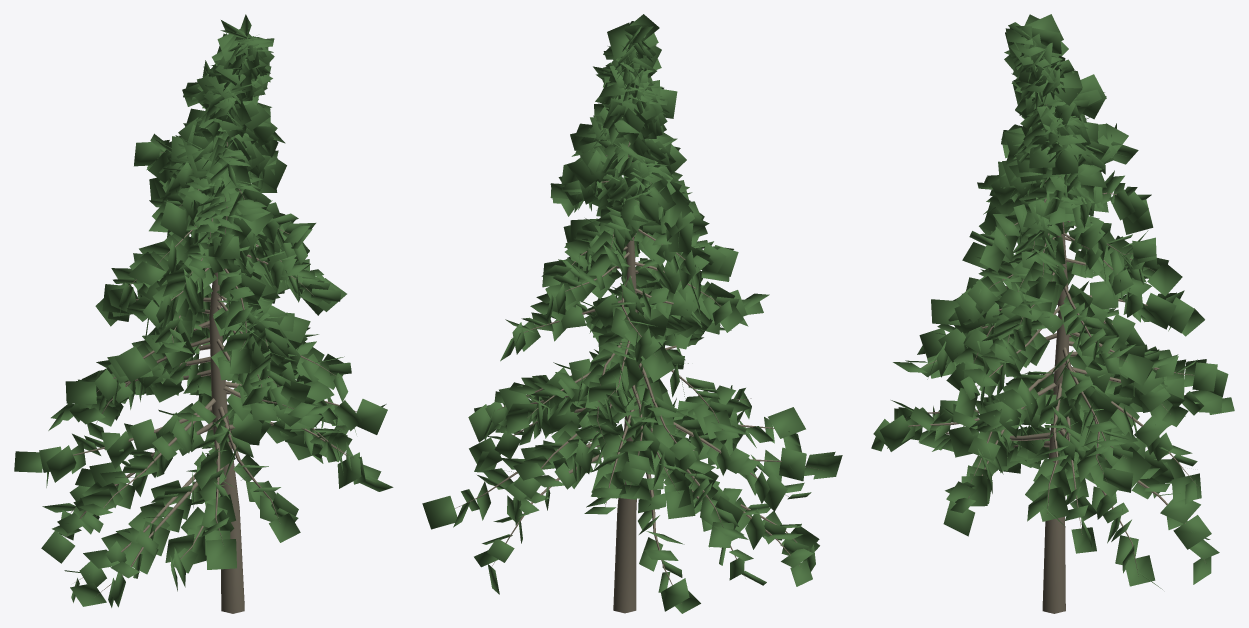
The model's file is pine_realistic_b.glb.
3 renders of one model, left to right at view 1: azimuth 30°, elevation 25°; view 2: azimuth 150°, elevation 25°; view 3: azimuth 270°, elevation 25°, orthographic. The views are drawn at different scales.
Parts seen in each view (by area): view 1: RealisticCutoutFoliage, RealisticBarkBranches; view 2: RealisticCutoutFoliage, RealisticBarkBranches; view 3: RealisticCutoutFoliage, RealisticBarkBranches.
Part boxes in pixels (<box>): RealisticCutoutFoliage: <box>14,14,393,607</box>; RealisticBarkBranches: <box>65,136,356,613</box>; RealisticCutoutFoliage: <box>422,14,842,613</box>; RealisticBarkBranches: <box>455,117,818,613</box>; RealisticCutoutFoliage: <box>871,14,1234,589</box>; RealisticBarkBranches: <box>905,104,1204,613</box>.
Bounding box in the file's own units: 30.43 × 50.91 × 28.56.
